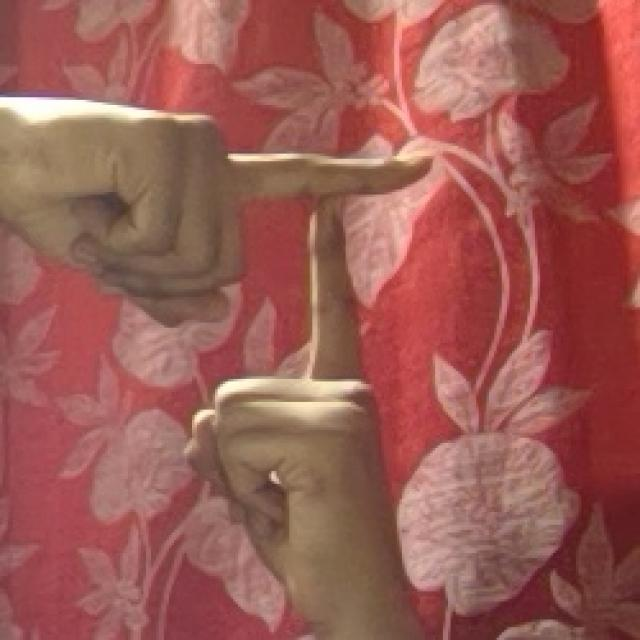Alphabet-T: (2, 77, 476, 640)
